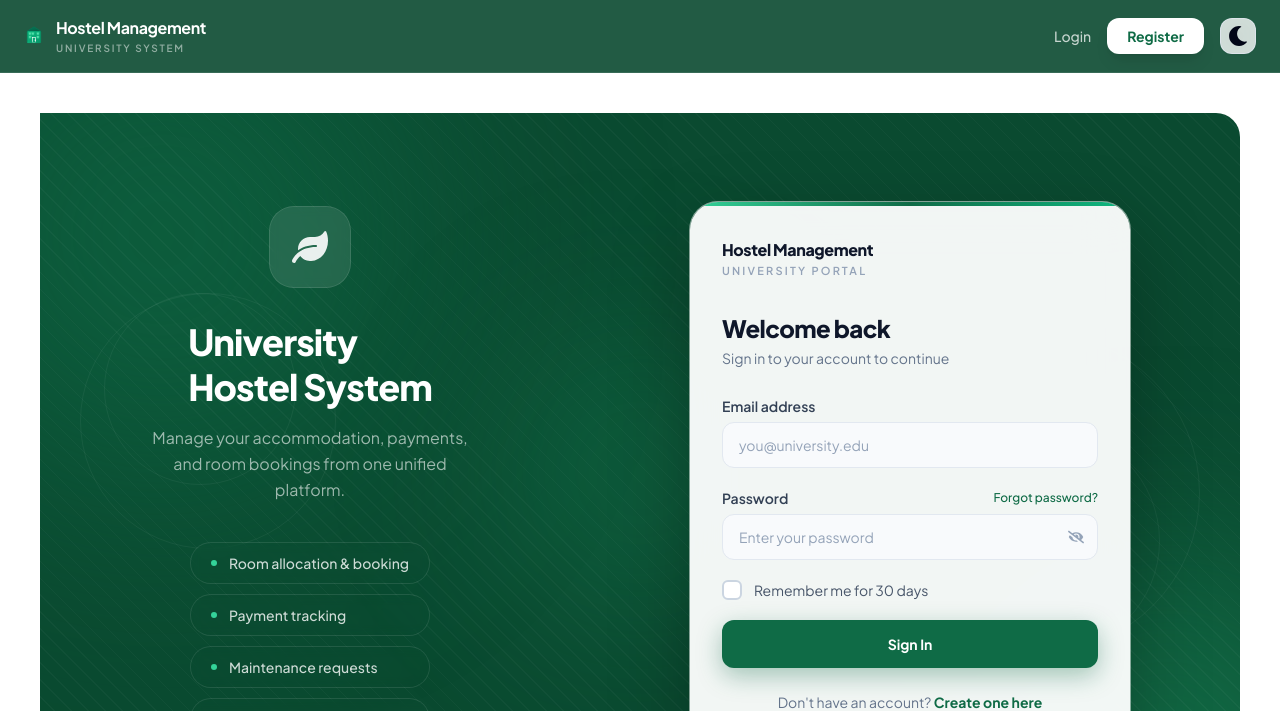
Test: Login Flow Integration Tests › shows error for invalid credentials
This screenshot has width=1280, height=711.
Type "test@example.com" into the field labelled "Email address".
click(910, 445); type("test@example.com")  # box 722,422 -> 1098,468
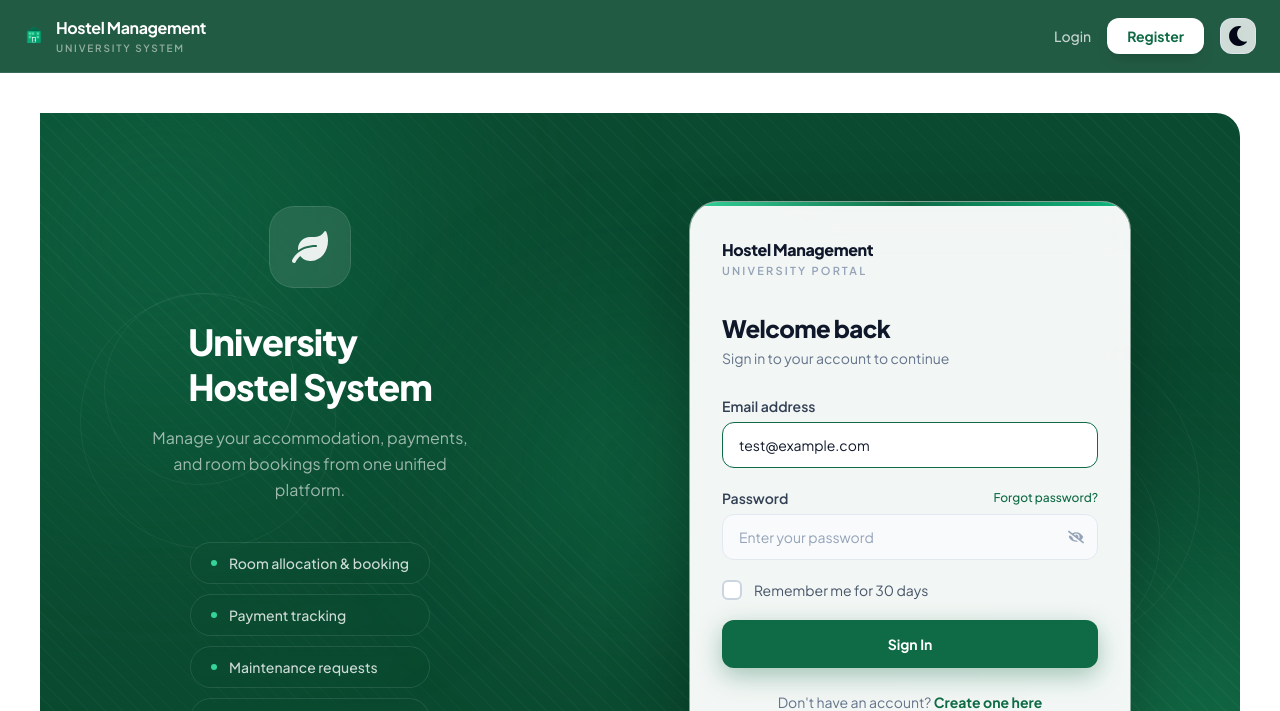
Type "wrongpassword" into the password field labelled "Password".
click(910, 537); type("wrongpassword")  # box 722,514 -> 1098,560
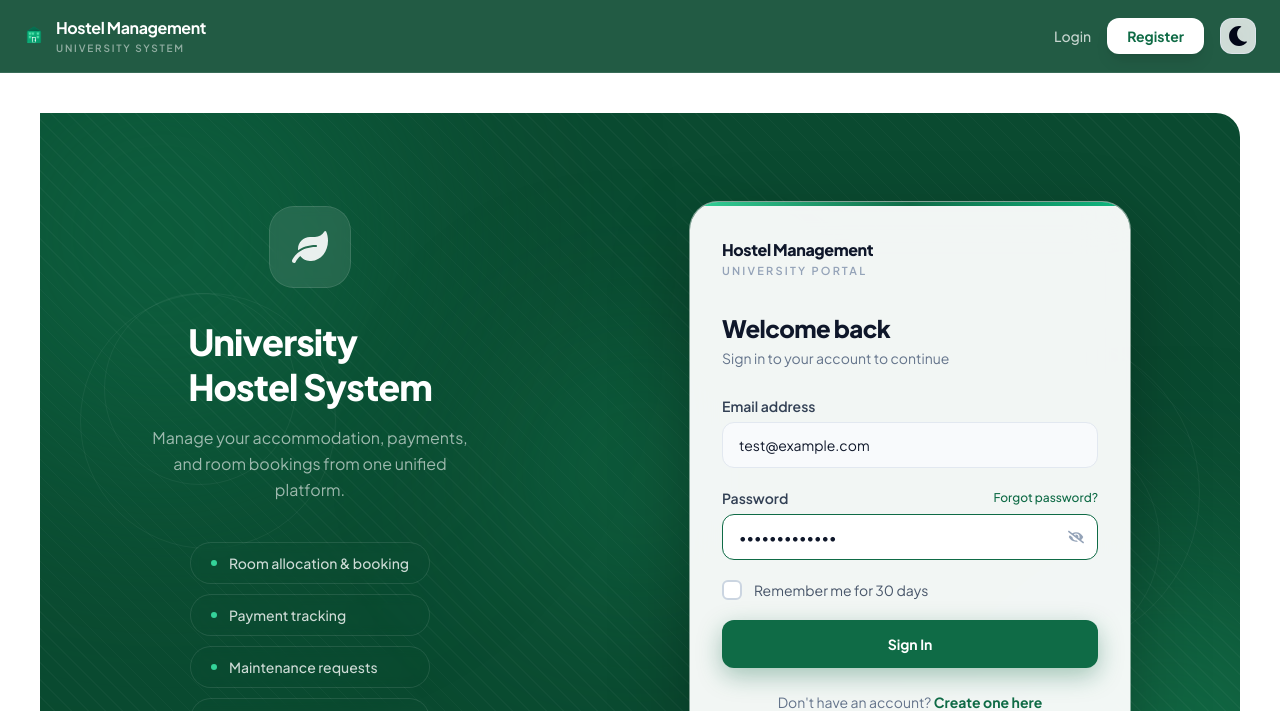
Click the button "Sign In".
click(910, 644)  # box 722,620 -> 1098,668
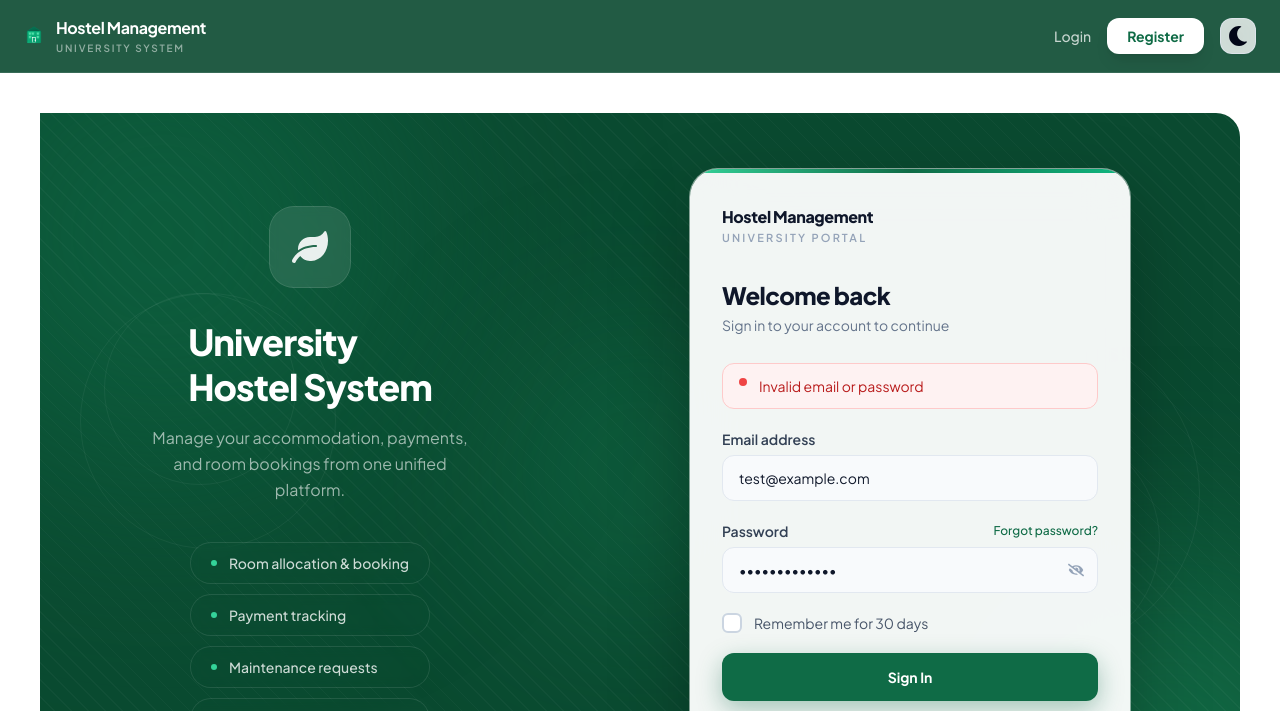
Check: the text "Invalid email or password" is shown, box 759,376 -> 924,396
